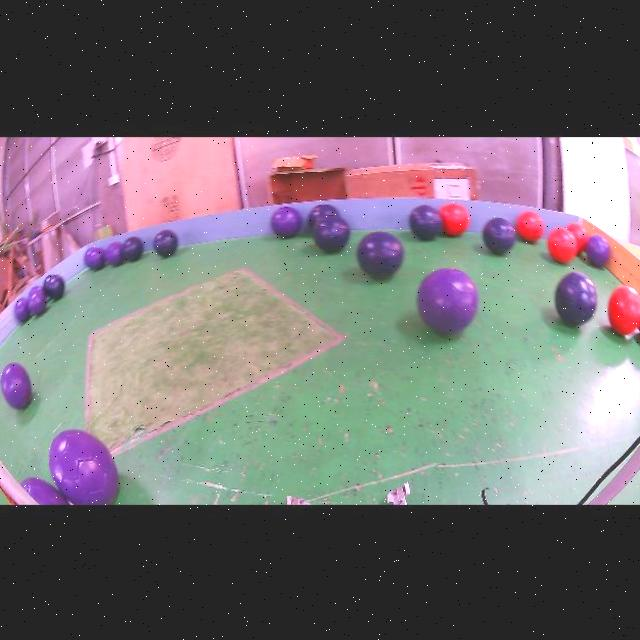B: (555, 271, 598, 326), (357, 232, 403, 279), (313, 215, 350, 254), (483, 218, 516, 255), (410, 205, 443, 241), (307, 204, 339, 228), (154, 231, 177, 257), (43, 275, 65, 300), (122, 237, 144, 261)
P: (49, 430, 118, 505), (417, 269, 479, 335), (1, 363, 31, 409), (21, 477, 68, 505), (270, 206, 302, 238), (585, 234, 610, 268), (84, 247, 106, 270), (104, 242, 123, 266), (28, 292, 47, 316), (15, 298, 30, 323), (29, 287, 44, 298)
R: (608, 285, 640, 335), (548, 228, 578, 264), (439, 202, 470, 236), (516, 211, 545, 242), (566, 223, 590, 252)
